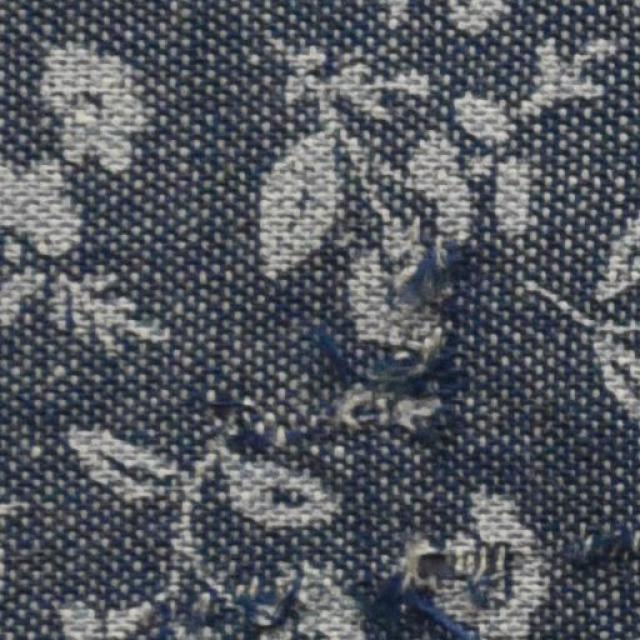Snag: (205, 215, 477, 470), (349, 545, 508, 639), (172, 574, 319, 639), (562, 522, 636, 576)
